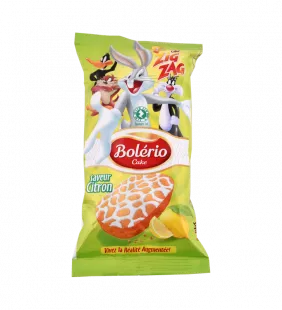BOLERIO: (60, 27, 220, 284)
